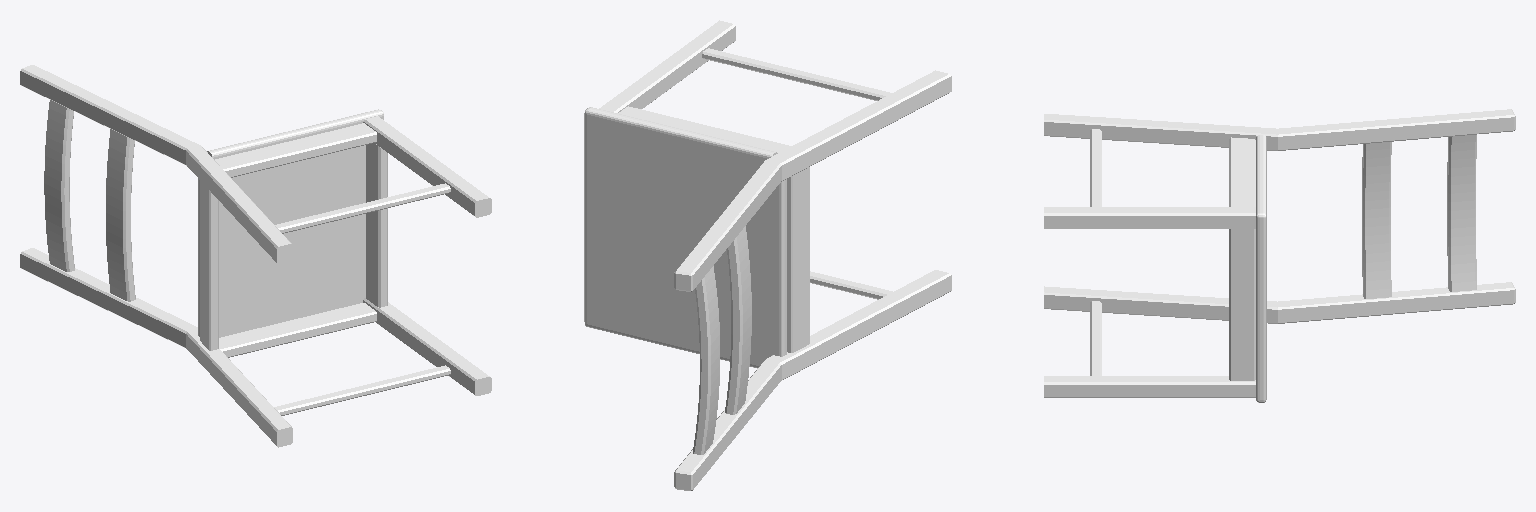
URDF robot description (chair_new.urdf):
<?xml version="1.0" ?>
<robot name="chair_new.urdf">
  <link name="baseLink">
    <inertial>
      <origin rpy="0 0 0" xyz="0 0 0"/>
       <mass value="0.0"/>
       <inertia ixx="0" ixy="0" ixz="0" iyy="0" iyz="0" izz="0"/>
    </inertial>
    <visual>
      <origin rpy="0 0 0" xyz="0 0 0"/>
      <geometry>
        <mesh filename="chair_new.obj" scale="1.0 1.0 1.0"/>
      </geometry>
      <material name="white">
       <color rgba="1 1 1 1"/>
     </material>
    </visual>
    <collision>
      <origin rpy="0 0 0" xyz="0 0 0"/>
      <geometry>
        <mesh filename="chair_new.obj" scale="1.0 1.0 1.0"/>
        <!-- You could also specify the collision (for the chair_new) with a "box" tag: -->
        <!-- <box size=".06 .06 .06"/> -->
      </geometry>
    </collision>
  </link>
</robot>
        

--- Render facts (derived) ---
3 views of the same robot in one strip: view 1: azimuth 30°, elevation 25°; view 2: azimuth 150°, elevation 25°; view 3: azimuth 270°, elevation 25° (orthographic).
Model chair_new.urdf with 1 links and 0 joints (none), rooted at baseLink, posed every joint at zero.
Links seen in each view (by area): view 1: baseLink; view 2: baseLink; view 3: baseLink.
Link boxes in pixels (x1=…): baseLink: x1=20, y1=65, x2=491, y2=447; baseLink: x1=584, y1=20, x2=951, y2=490; baseLink: x1=1044, y1=109, x2=1515, y2=402.
Size in the robot's own frame: 0.1431 by 0.2681 by 0.119 metres.
1 mesh visuals loaded from 1 distinct referenced files (1 OBJ).
